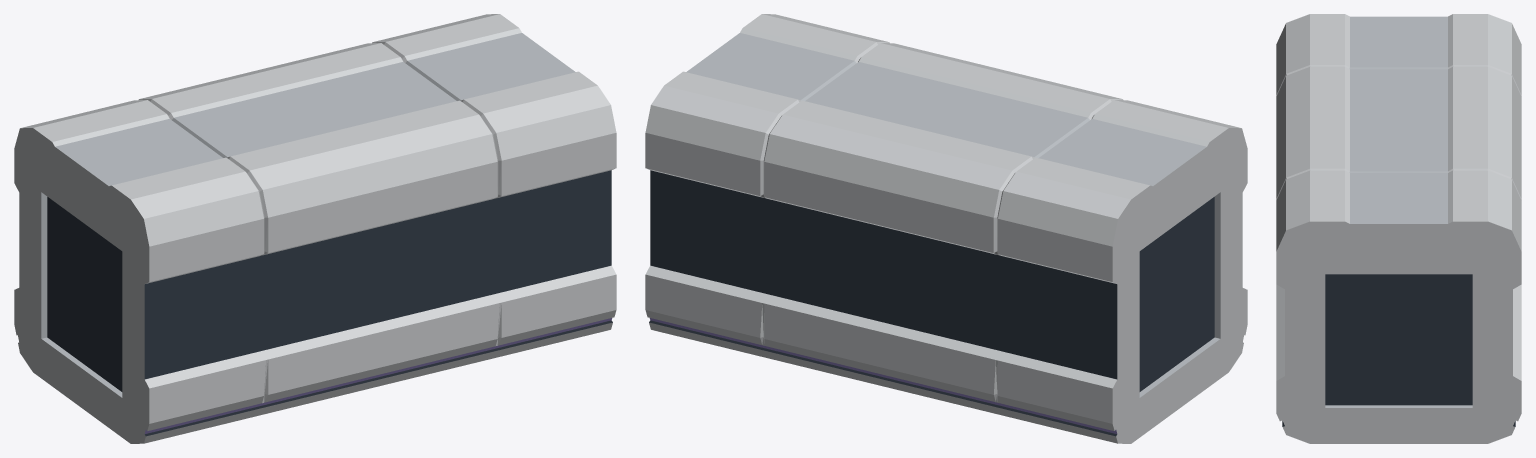
File: sky-bridge-span-26fcde.glb
The picture shows the model from 3 angles, left to right: view 1: azimuth 30°, elevation 25°; view 2: azimuth 150°, elevation 25°; view 3: azimuth 270°, elevation 25°; orthographic projection. The views are drawn at different scales.
Parts seen in each view (by area): view 1: sky-bridge-span; view 2: sky-bridge-span; view 3: sky-bridge-span.
Part boxes in pixels (x1=…): sky-bridge-span: x1=14, y1=14, x2=616, y2=443; sky-bridge-span: x1=645, y1=14, x2=1247, y2=443; sky-bridge-span: x1=1276, y1=14, x2=1521, y2=443.
Size of the model in its own units: 8 by 4 by 4.
